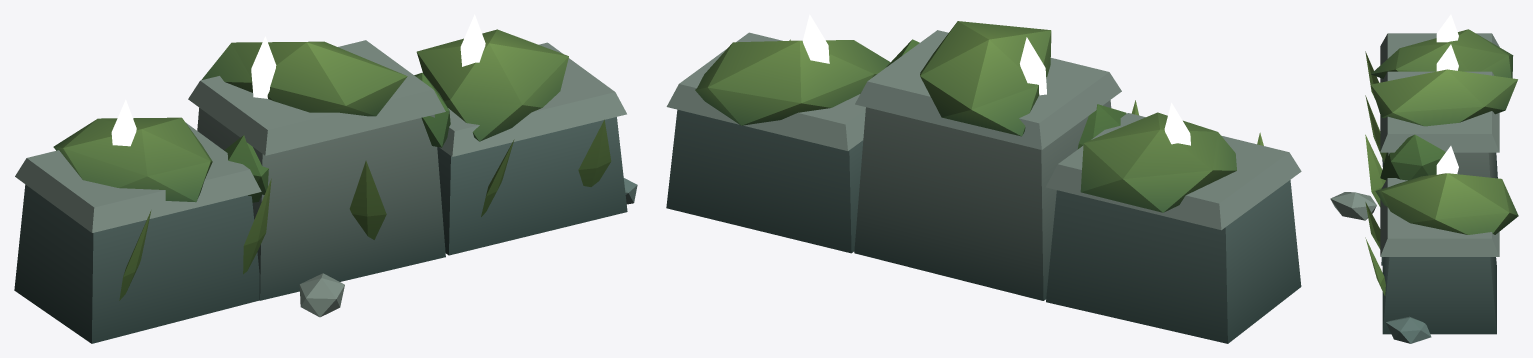
File: moss-edging.glb
The picture shows the model from 3 angles, left to right: view 1: azimuth 30°, elevation 25°; view 2: azimuth 150°, elevation 25°; view 3: azimuth 270°, elevation 25°; orthographic projection. The views are drawn at different scales.
Visible parts, largest first — view 1: gg_moss_edging; view 2: gg_moss_edging; view 3: gg_moss_edging.
Boxes of the visible parts, left/top/right/bottom form: gg_moss_edging: left=14, top=14, right=637, bottom=343; gg_moss_edging: left=666, top=14, right=1301, bottom=343; gg_moss_edging: left=1330, top=14, right=1518, bottom=343.
Size of the model in its own units: 2.03 by 0.7573 by 0.7584.
